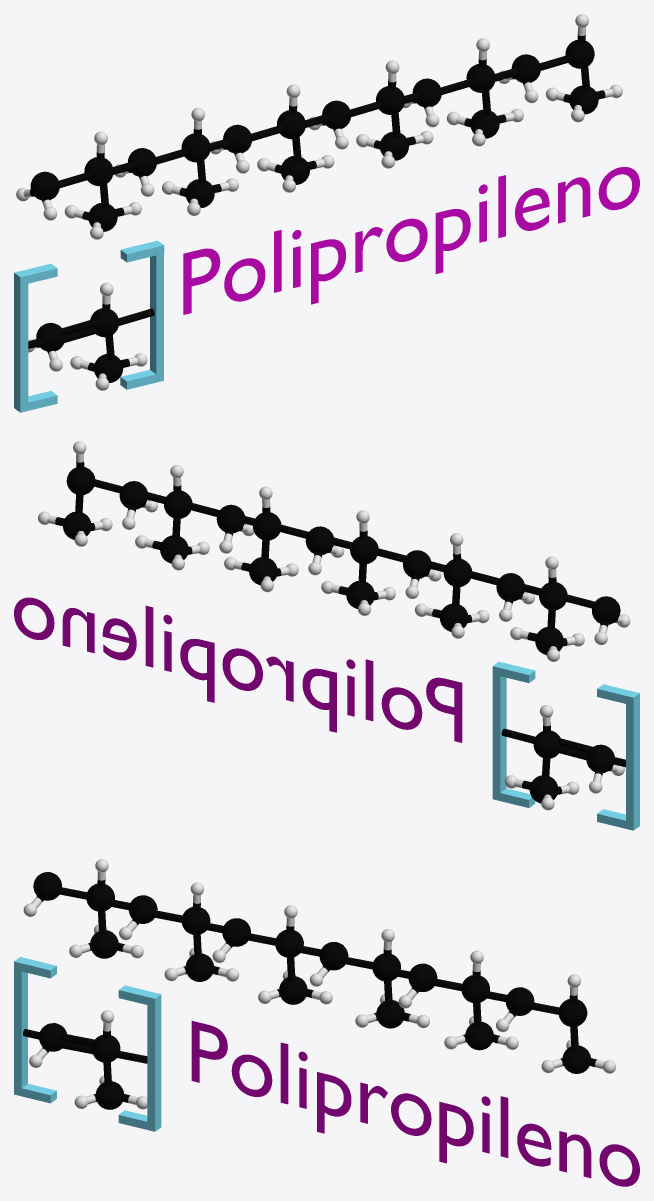
File: polipropileno.glb
The picture shows the model from 3 angles, top to bottom: view 1: azimuth 30°, elevation 25°; view 2: azimuth 150°, elevation 25°; view 3: azimuth 330°, elevation 25°; orthographic projection.
Parts seen in each view (by area): view 1: Text.004, Cube.009, Cube.010, Shape_IndexedFaceSet.1548, Shape_IndexedFaceSet.1545, Shape_IndexedFaceSet.1668, Shape_IndexedFaceSet.1519, Shape_IndexedFaceSet.1642, Shape_IndexedFaceSet.1570, Shape_IndexedFaceSet.1572, Shape_IndexedFaceSet.1620, Shape_IndexedFaceSet.1644 (+12 smaller); view 2: Text.004, Cube.010, Cube.009, Shape_IndexedFaceSet.1548, Shape_IndexedFaceSet.1618, Shape_IndexedFaceSet.1545, Shape_IndexedFaceSet.1642, Shape_IndexedFaceSet.1594, Shape_IndexedFaceSet.1666, Shape_IndexedFaceSet.1570, Shape_IndexedFaceSet.1644, Shape_IndexedFaceSet.1596 (+12 smaller); view 3: Text.004, Cube.010, Cube.009, Shape_IndexedFaceSet.1666, Shape_IndexedFaceSet.1644, Shape_IndexedFaceSet.1668, Shape_IndexedFaceSet.1620, Shape_IndexedFaceSet.1572, Shape_IndexedFaceSet.1596, Shape_IndexedFaceSet.1548, Shape_IndexedFaceSet.1533, Shape_IndexedFaceSet.1678 (+12 smaller).
Boxes of the visible parts, x1,y1,x2,y2 form: Text.004: (183, 167, 639, 314); Cube.009: (14, 263, 57, 412); Cube.010: (120, 240, 164, 389); Shape_IndexedFaceSet.1548: (30, 171, 59, 200); Shape_IndexedFaceSet.1545: (84, 157, 113, 186); Shape_IndexedFaceSet.1668: (511, 54, 540, 82); Shape_IndexedFaceSet.1519: (36, 323, 65, 351); Shape_IndexedFaceSet.1642: (466, 64, 495, 92); Shape_IndexedFaceSet.1570: (181, 133, 210, 162); Shape_IndexedFaceSet.1572: (127, 148, 156, 176); Shape_IndexedFaceSet.1620: (322, 100, 351, 129); Shape_IndexedFaceSet.1644: (412, 78, 441, 106); Text.004: (14, 597, 462, 742); Cube.010: (492, 661, 535, 807); Cube.009: (597, 684, 639, 830); Shape_IndexedFaceSet.1548: (592, 596, 620, 624); Shape_IndexedFaceSet.1618: (253, 512, 281, 540); Shape_IndexedFaceSet.1545: (539, 582, 567, 610); Shape_IndexedFaceSet.1642: (164, 491, 192, 518); Shape_IndexedFaceSet.1594: (350, 536, 378, 564); Shape_IndexedFaceSet.1666: (66, 467, 95, 495); Shape_IndexedFaceSet.1570: (443, 559, 471, 587); Shape_IndexedFaceSet.1644: (216, 504, 244, 533); Shape_IndexedFaceSet.1596: (403, 550, 430, 578); Text.004: (191, 1021, 639, 1186); Cube.010: (118, 985, 161, 1131); Cube.009: (14, 957, 56, 1103); Shape_IndexedFaceSet.1666: (558, 999, 587, 1026); Shape_IndexedFaceSet.1644: (408, 963, 437, 991); Shape_IndexedFaceSet.1668: (505, 987, 534, 1015); Shape_IndexedFaceSet.1620: (319, 942, 348, 970); Shape_IndexedFaceSet.1572: (128, 895, 157, 923); Shape_IndexedFaceSet.1596: (222, 918, 250, 946); Shape_IndexedFaceSet.1548: (33, 872, 61, 900); Shape_IndexedFaceSet.1533: (96, 1081, 123, 1109); Shape_IndexedFaceSet.1678: (562, 1045, 590, 1073).
Size of the model in its own units: 159 by 62.81 by 14.08.
